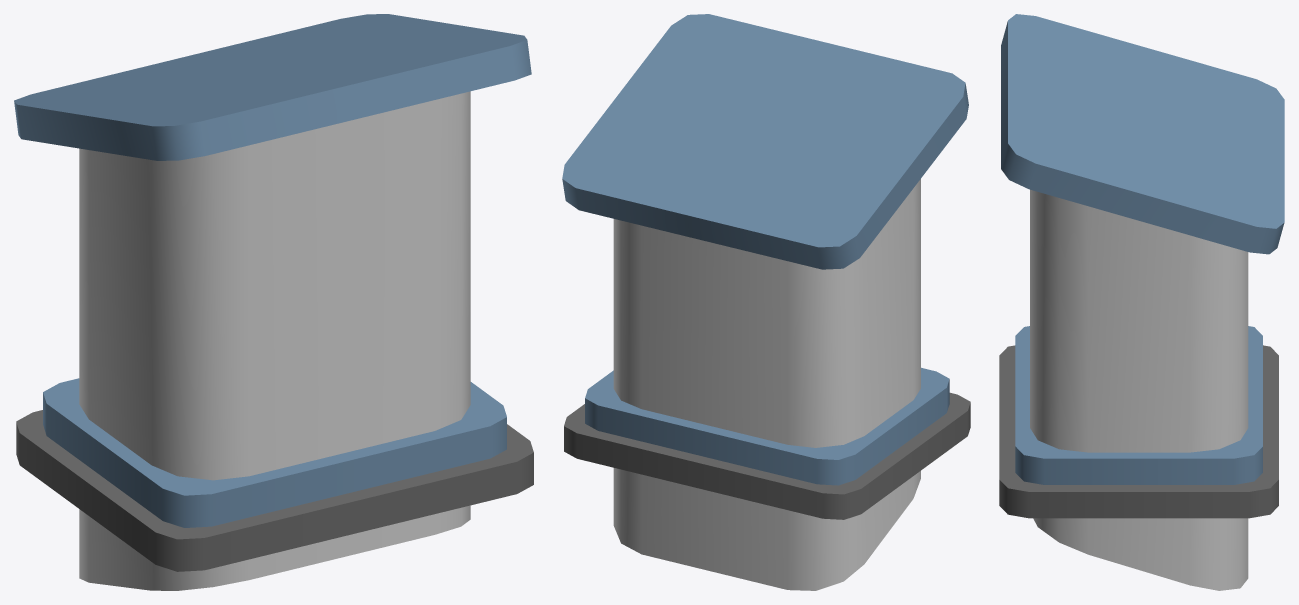
File: stand.glb
3 renders of one model, left to right at view 1: azimuth 30°, elevation 25°; view 2: azimuth 150°, elevation 25°; view 3: azimuth 270°, elevation 25°, orthographic. The views are drawn at different scales.
Parts seen in each view (by area): view 1: Plane; view 2: Plane; view 3: Plane.
Part boxes in pixels (x1,y1,x2,y2): Plane: [14, 14, 533, 590]; Plane: [562, 14, 970, 590]; Plane: [999, 14, 1284, 590].
Size of the model in its own units: 2.42 by 3.48 by 1.96.
